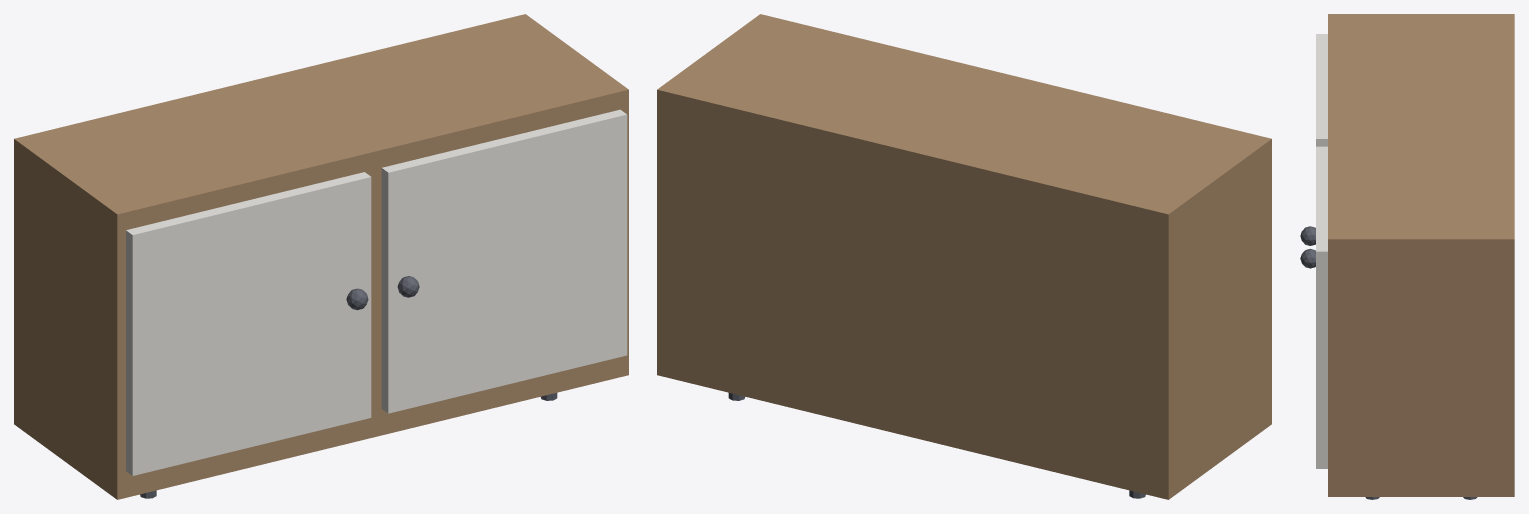
3 renders of one model, left to right at view 1: azimuth 30°, elevation 25°; view 2: azimuth 150°, elevation 25°; view 3: azimuth 270°, elevation 25°, orthographic. The views are drawn at different scales.
Parts seen in each view (by area): view 1: Body, Door.R, Door.L; view 2: Body; view 3: Body, Door.R, Door.L, Handle.L, Handle.R.
Part boxes in pixels (x1,y1,x2,y2): Body: (14,14,628,499); Door.R: (381,109,627,413); Door.L: (126,172,371,475); Body: (657,14,1271,499); Body: (1328,14,1514,496); Door.R: (1316,146,1327,468); Door.L: (1316,34,1327,146); Handle.L: (1300,226,1315,245); Handle.R: (1300,248,1315,268).
Bounding box in the file's own units: 1.2 × 0.7 × 0.4825.
